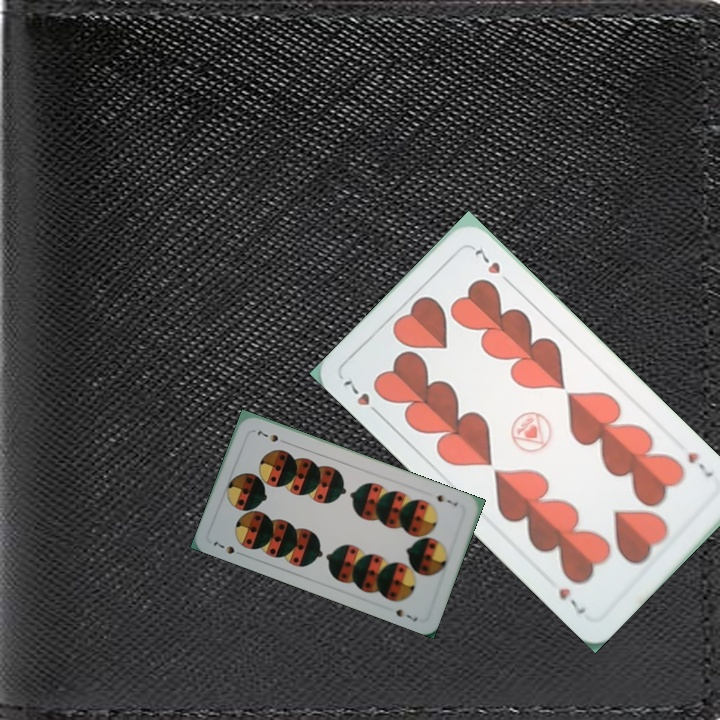H7: (339, 373, 385, 420), (683, 447, 716, 481)
S7: (209, 537, 247, 558), (433, 491, 460, 509)
